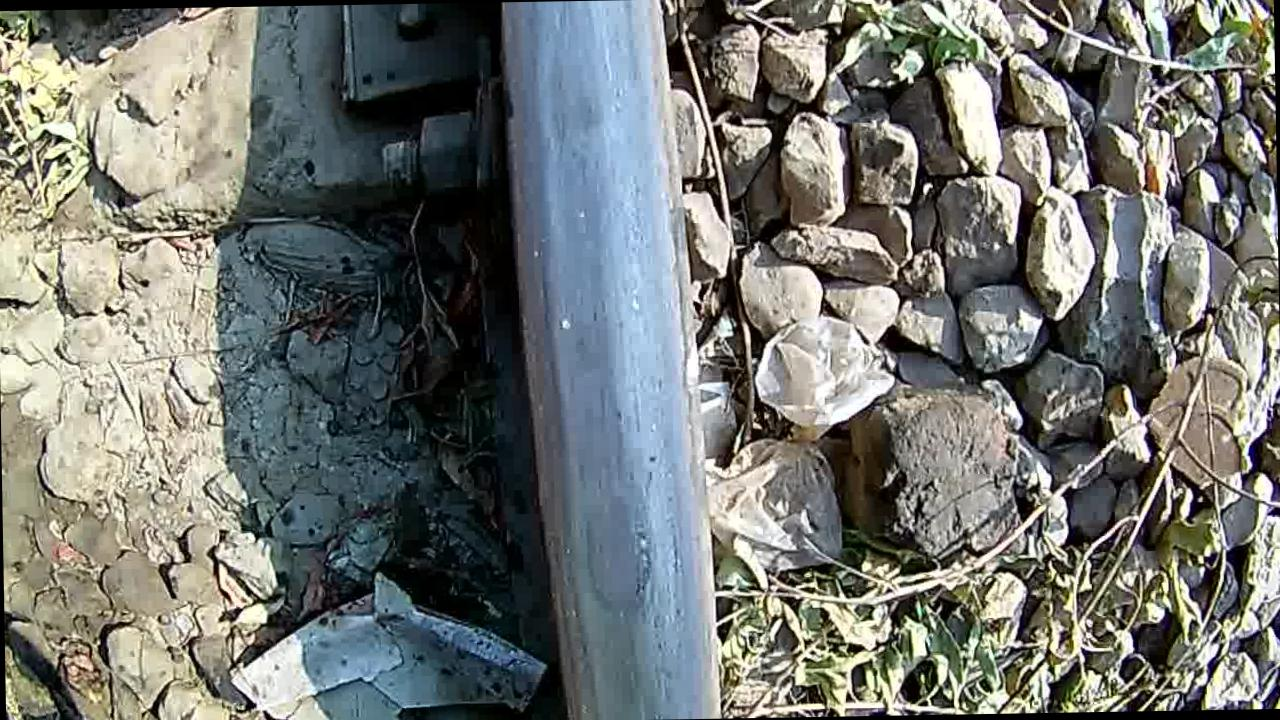bolt_missing: (514, 7, 680, 710)
